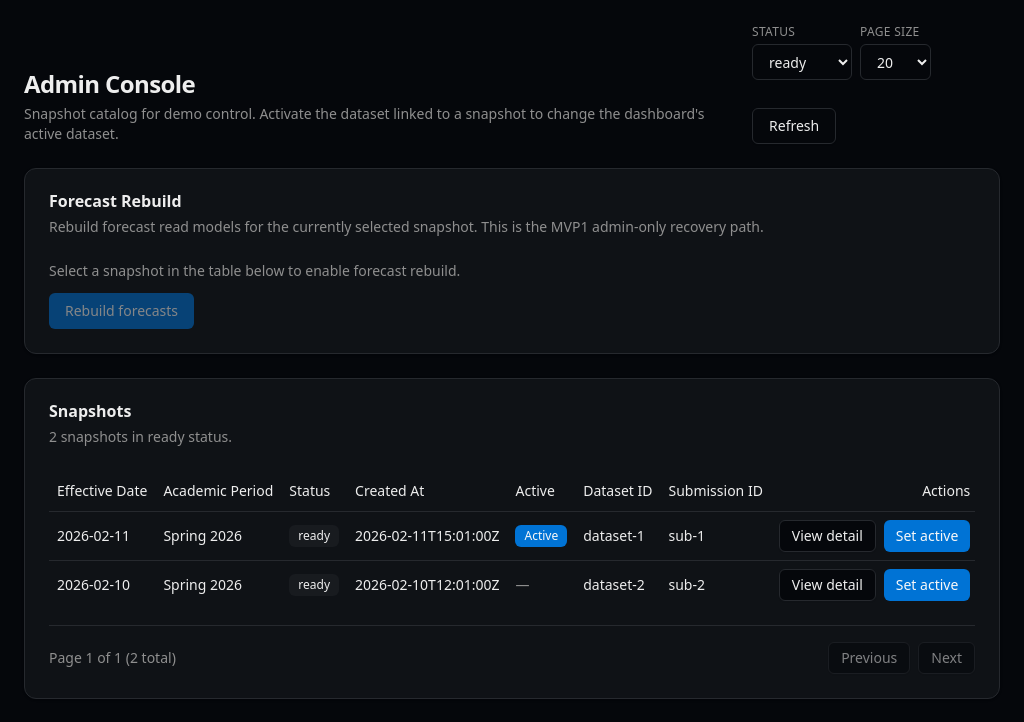
Test: Admin Console route › surfaces forecast rebuild request errors from the backend in admin console
Step 1. Click the button with aria-label "View snapshot detail snap-ready-inactive" → (827, 584), box [779, 568, 876, 600]
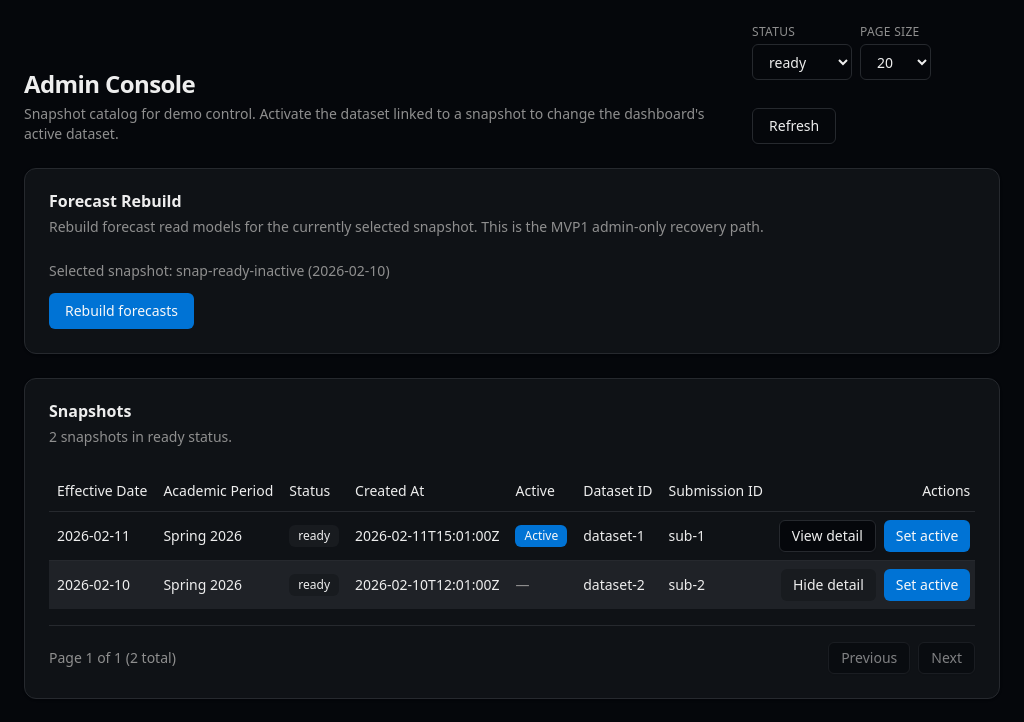
Step 2. Click the button with test id "admin-console-rebuild-forecasts-button" → (122, 311), box [49, 293, 194, 329]
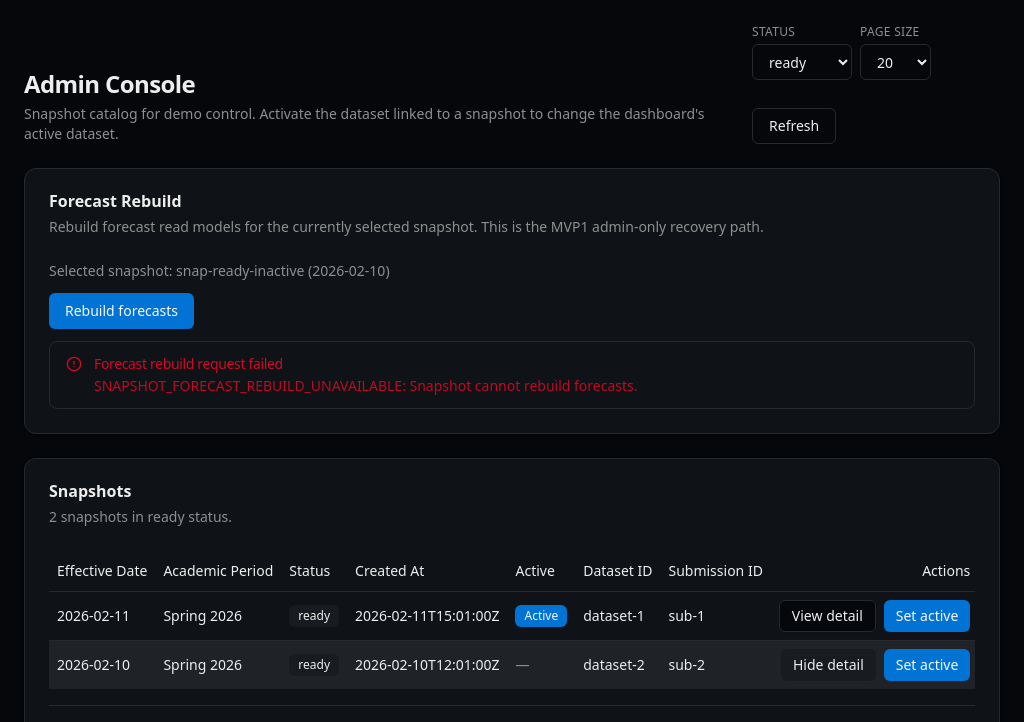
expect the message with test id "admin-console-forecast-rebuild-error" shows "Forecast rebuild request failed": met, box [94, 354, 283, 373]
expect the message with test id "admin-console-forecast-rebuild-error" shows "SNAPSHOT_FORECAST_REBUILD_UNAVAILABLE: Snapshot cannot rebuild forecasts.": met, box [49, 341, 975, 409]
